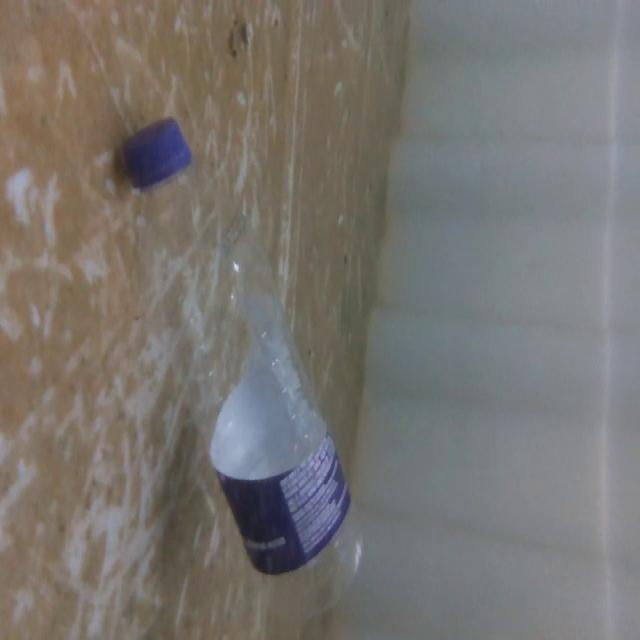plastic bottle: (113, 107, 385, 616)
